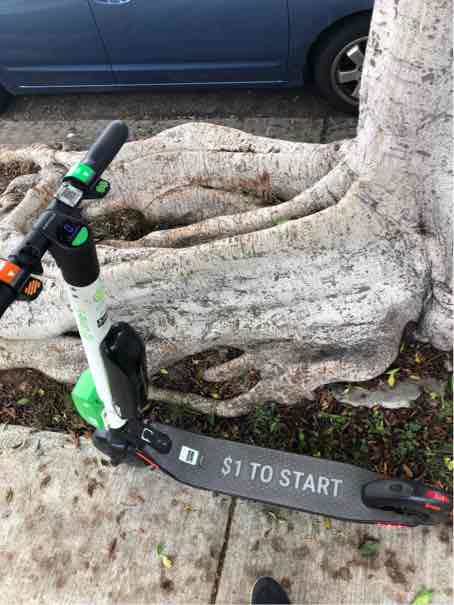scooter: (0, 128, 446, 547)
